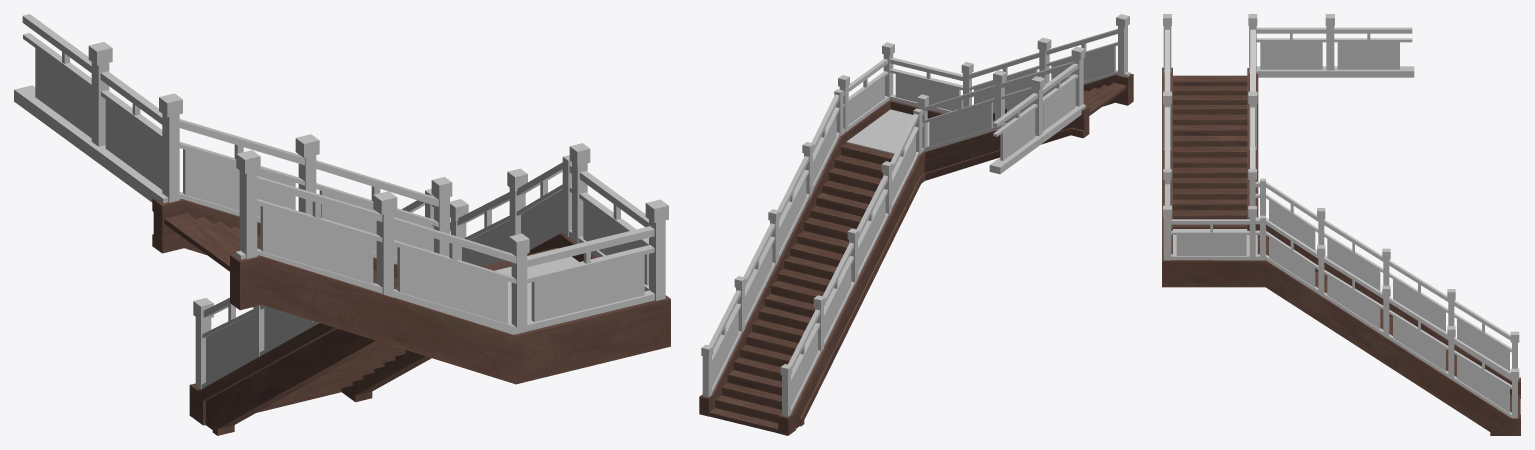
Rendered from Homeworld_Interior_Ly_Room_P_Stair_01_01_Vo.fbx.
The picture shows the model from 3 angles, left to right: view 1: azimuth 30°, elevation 25°; view 2: azimuth 150°, elevation 25°; view 3: azimuth 270°, elevation 25°; orthographic projection. The views are drawn at different scales.
Parts seen in each view (by area): view 1: Homeworld_Interior_Ly_Room_P_Stair_01_01_Vo; view 2: Homeworld_Interior_Ly_Room_P_Stair_01_01_Vo; view 3: Homeworld_Interior_Ly_Room_P_Stair_01_01_Vo.
Boxes of the visible parts, bbox=[...] form: Homeworld_Interior_Ly_Room_P_Stair_01_01_Vo: bbox=[14, 14, 670, 435]; Homeworld_Interior_Ly_Room_P_Stair_01_01_Vo: bbox=[699, 14, 1133, 435]; Homeworld_Interior_Ly_Room_P_Stair_01_01_Vo: bbox=[1162, 14, 1520, 435].
Size of the model in its own units: 4.86 by 6.03 by 6.37.
